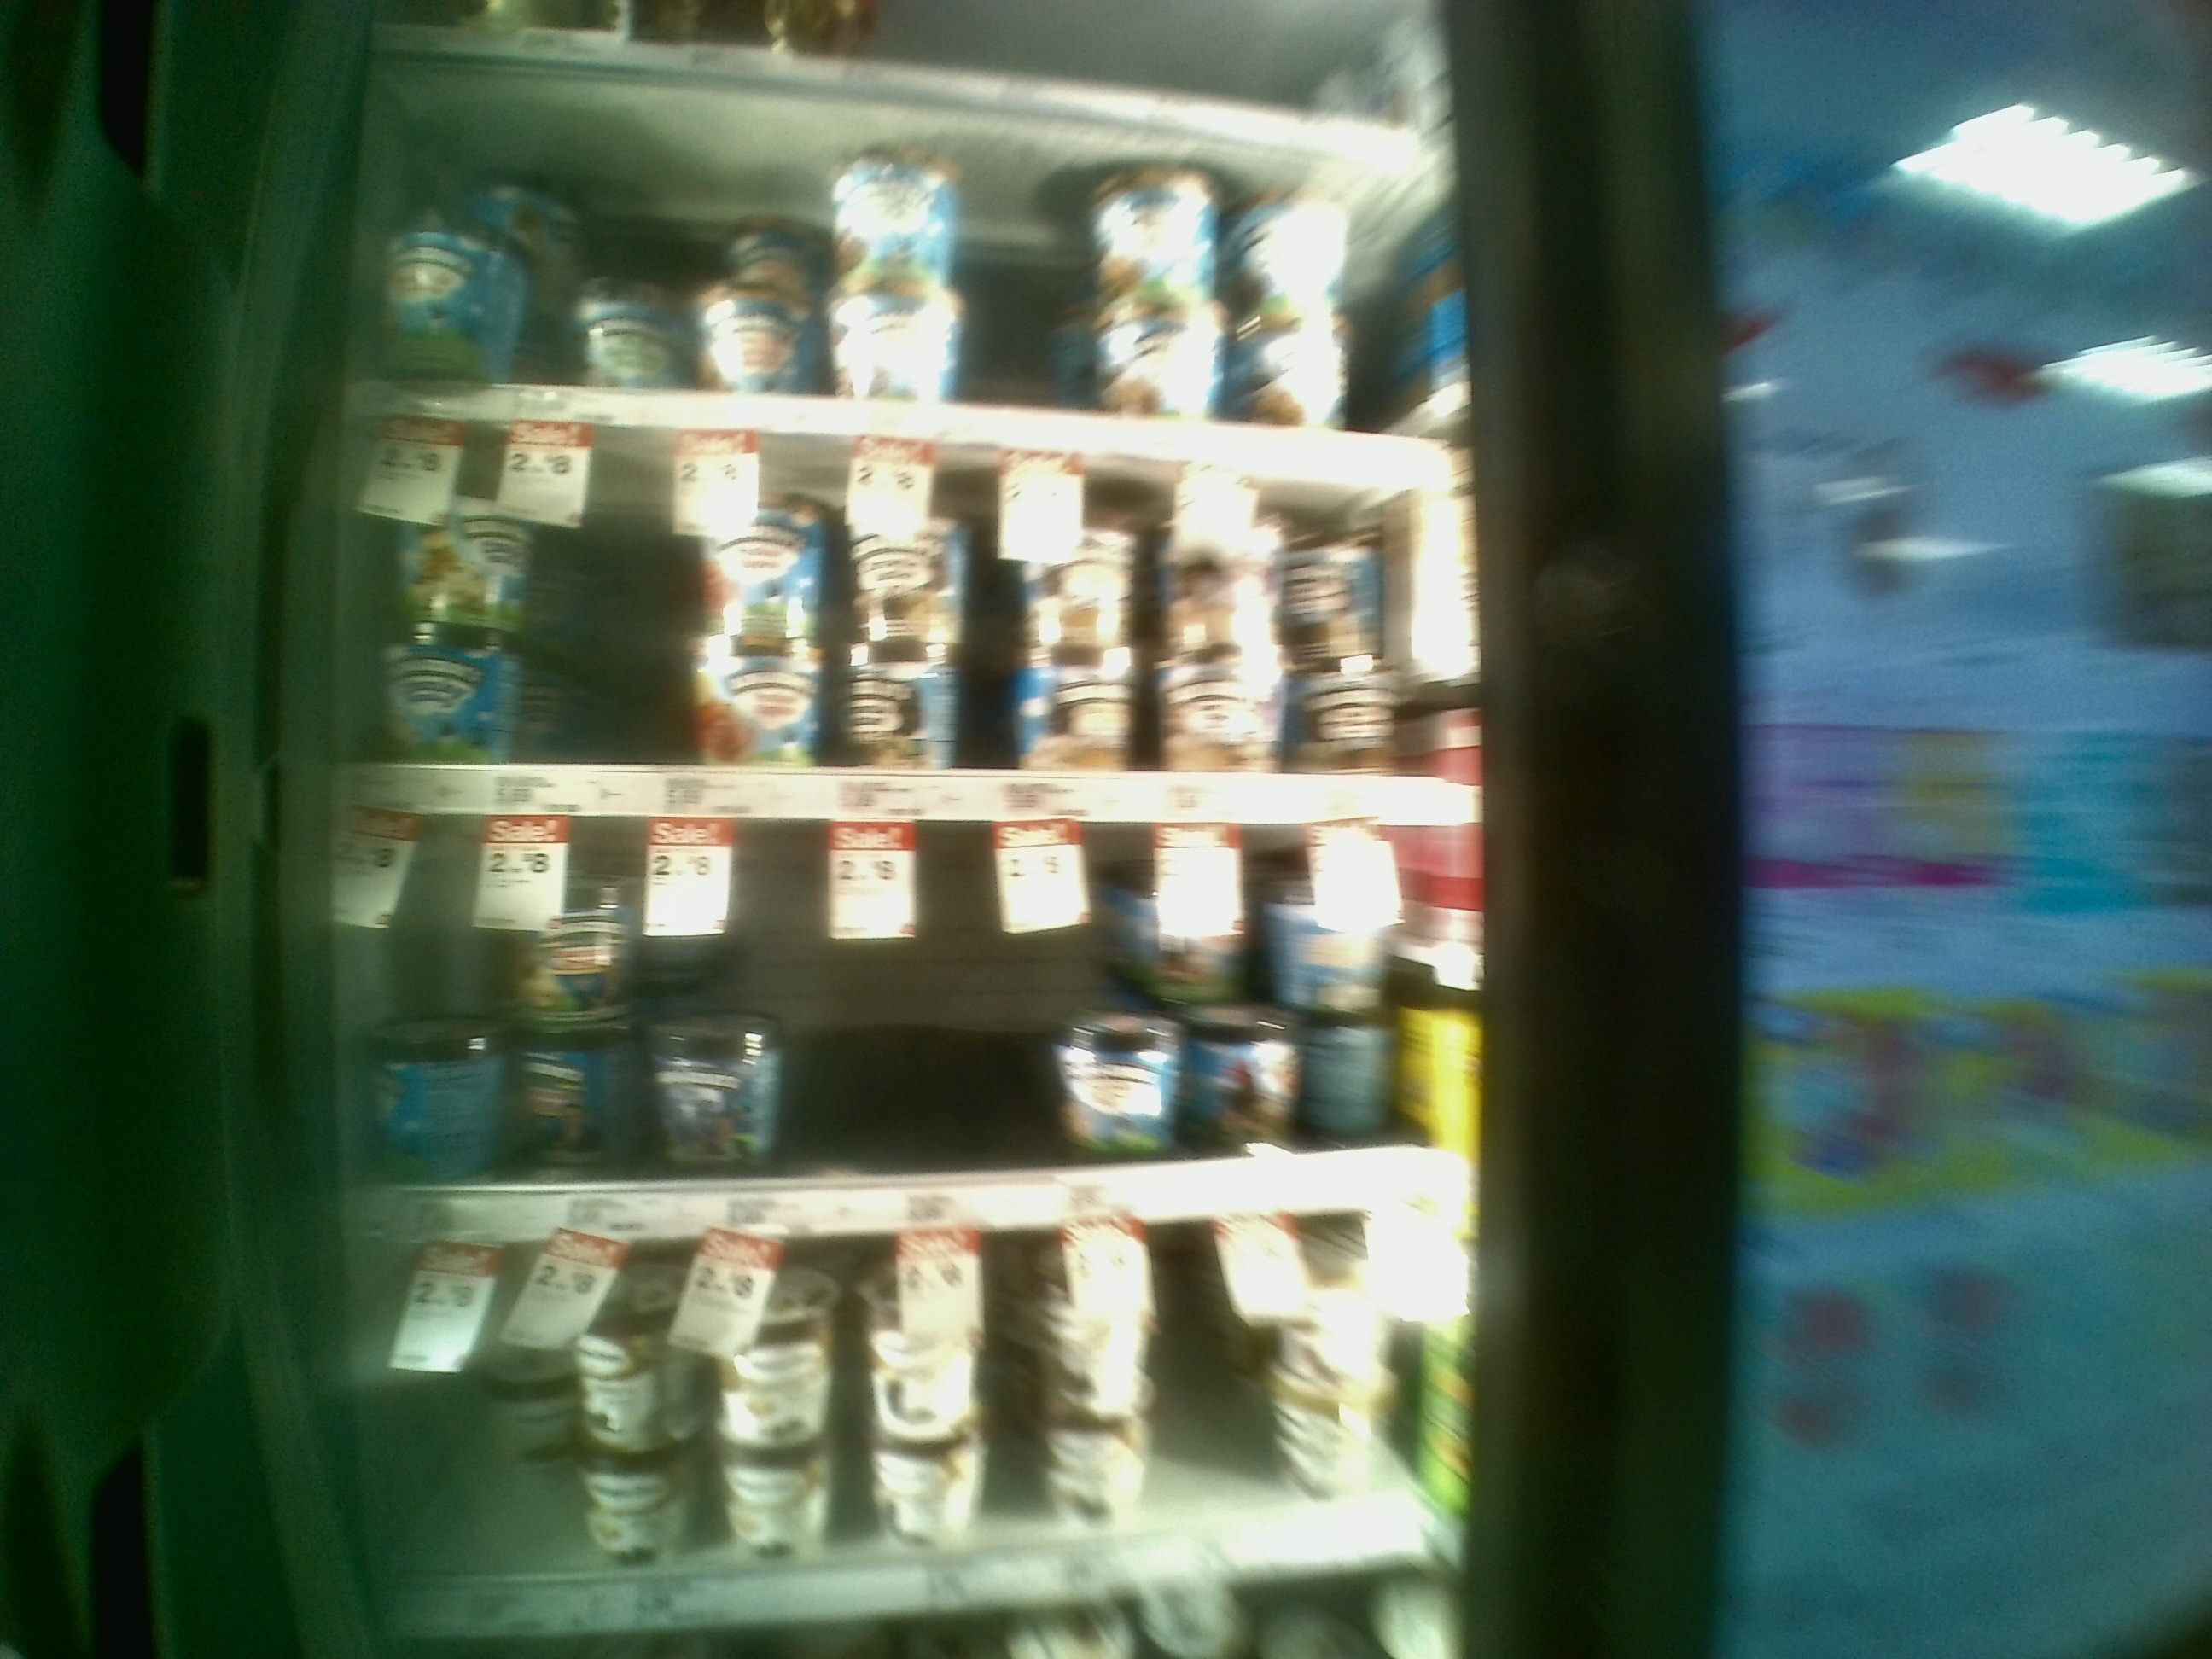shelf: (329, 817, 1479, 1246), (336, 415, 1465, 817)
